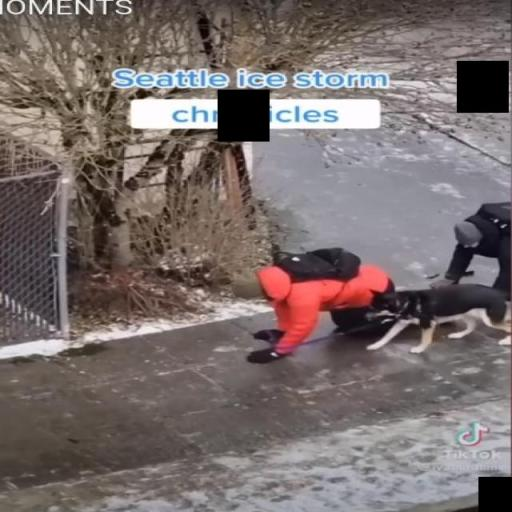Fall: (238, 246, 411, 370)
